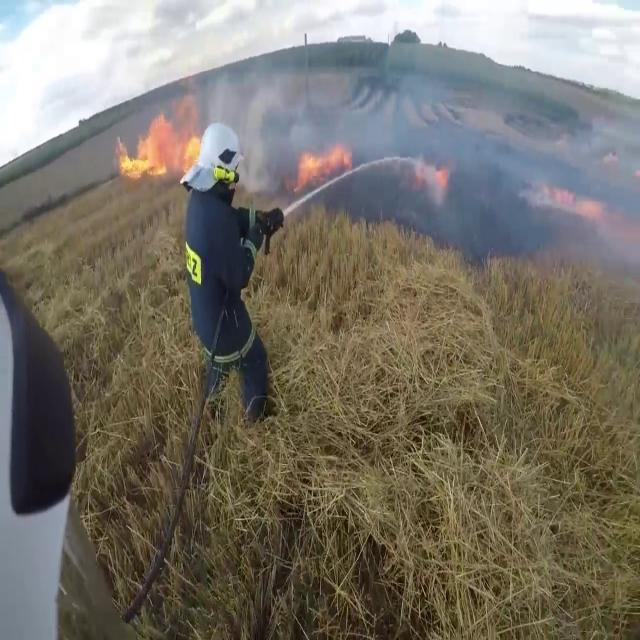Fire: (114, 105, 206, 183), (295, 132, 353, 187)
Smoke: (205, 59, 535, 246)
